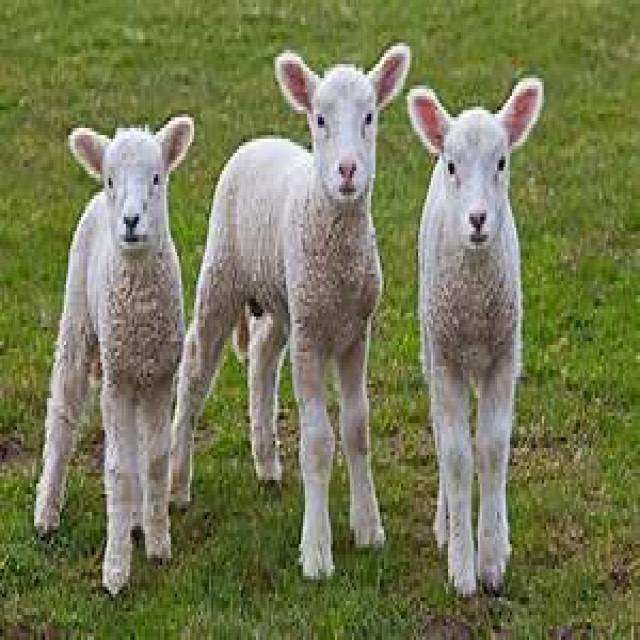sheep: (215, 36, 407, 597), (16, 95, 201, 627), (392, 45, 555, 639)
